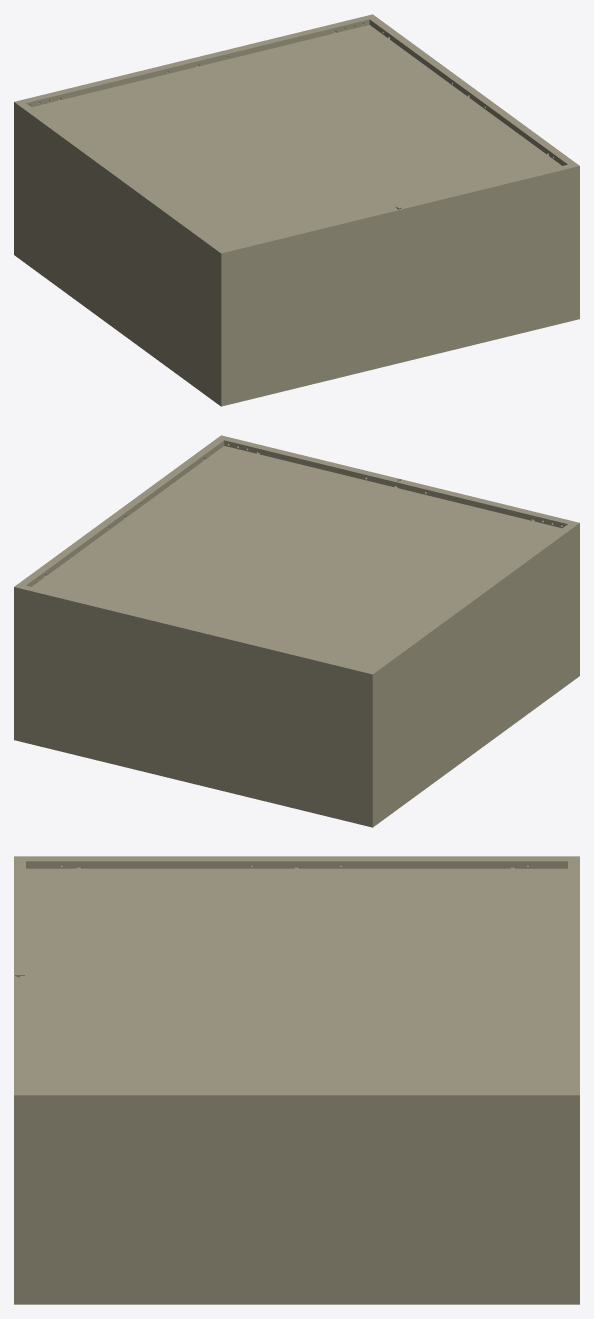
The model's file is Etapes_7.glb.
3 renders of one model, top to bottom at view 1: azimuth 30°, elevation 25°; view 2: azimuth 150°, elevation 25°; view 3: azimuth 270°, elevation 25°, orthographic. The views are drawn at different scales.
Parts seen in each view (by area): view 1: Cube.001; view 2: Cube.001; view 3: Cube.001.
Boxes of the visible parts, left/top/right/bottom form: Cube.001: left=14, top=14, right=579, bottom=406; Cube.001: left=14, top=435, right=579, bottom=827; Cube.001: left=14, top=856, right=579, bottom=1304.
Bounding box in the file's own units: 0.76 × 0.3192 × 0.76.
